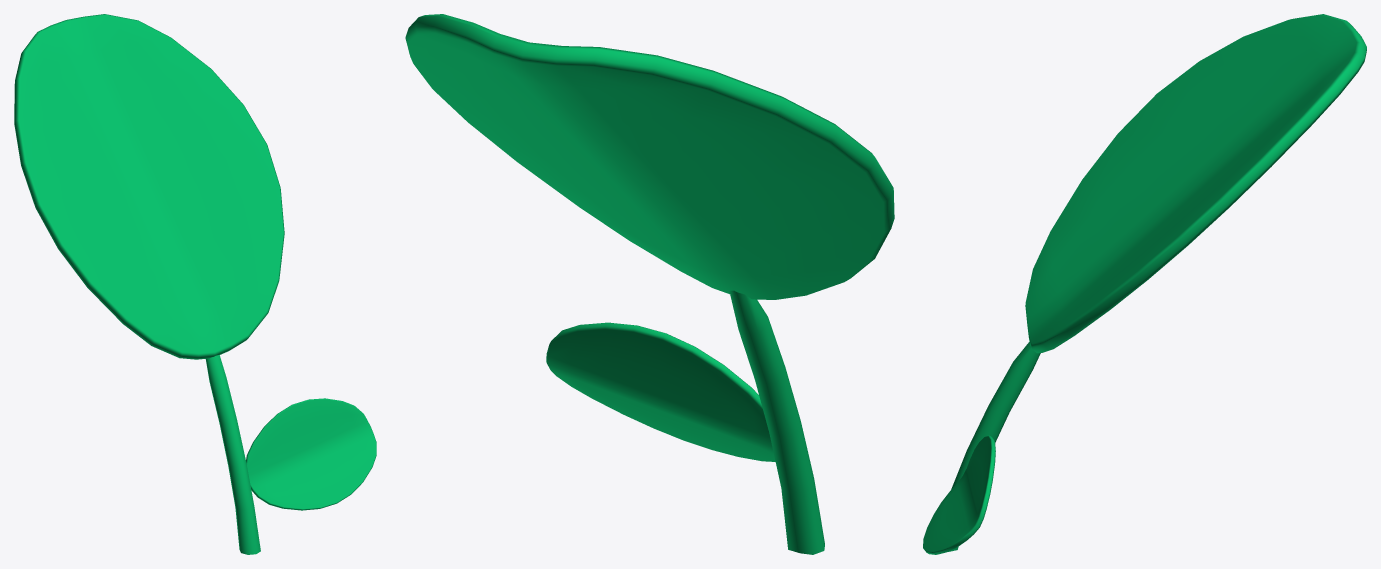
Rendered from Farm_11_Plant_2.glb.
3 renders of one model, left to right at view 1: azimuth 30°, elevation 25°; view 2: azimuth 150°, elevation 25°; view 3: azimuth 270°, elevation 25°, orthographic. The views are drawn at different scales.
Parts seen in each view (by area): view 1: Farm_11_Plant_2; view 2: Farm_11_Plant_2; view 3: Farm_11_Plant_2.
Part boxes in pixels (left/top/right/bottom): Farm_11_Plant_2: left=14, top=14, right=376, bottom=554; Farm_11_Plant_2: left=405, top=14, right=894, bottom=554; Farm_11_Plant_2: left=923, top=14, right=1366, bottom=554.
Bounding box in the file's own units: 0.3606 × 0.5455 × 0.4413.
1 material, 1 textured.
